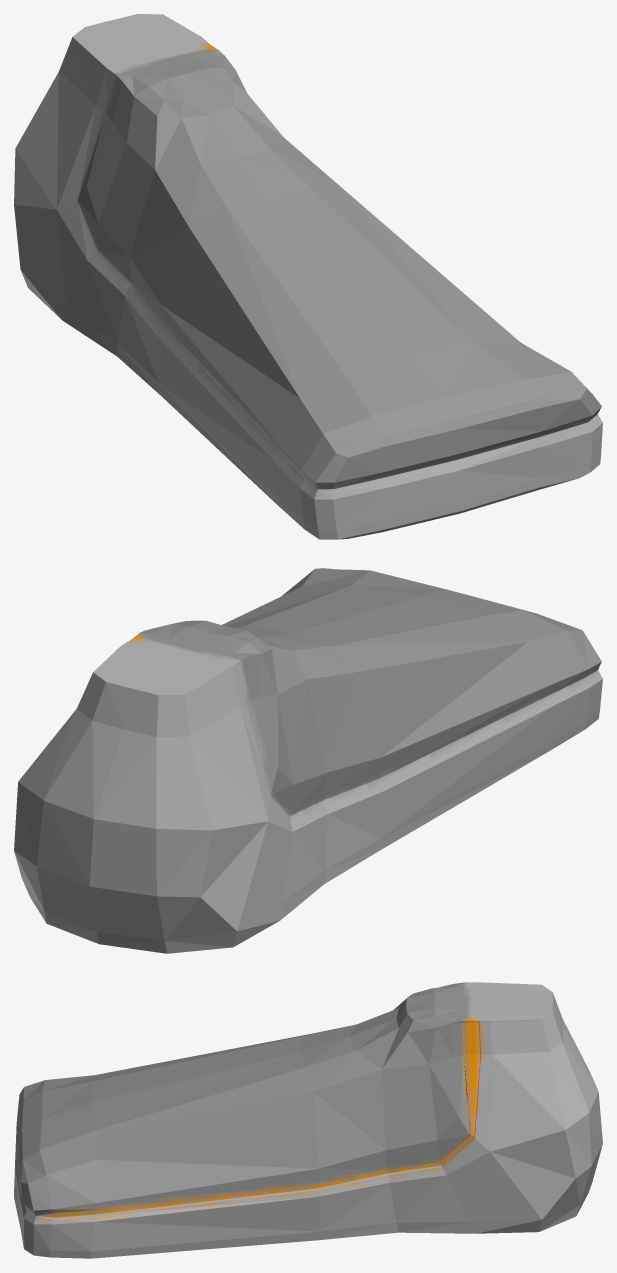
The model's file is LeftFoot.obj.
3 renders of one model, top to bottom at view 1: azimuth 30°, elevation 25°; view 2: azimuth 150°, elevation 25°; view 3: azimuth 270°, elevation 25°, orthographic. The views are drawn at different scales.
Visible parts, largest first — view 1: LeftFoot_Mesh.028; view 2: LeftFoot_Mesh.028; view 3: LeftFoot_Mesh.028.
Part boxes in pixels (<box>): LeftFoot_Mesh.028: <box>14,14,602,539</box>; LeftFoot_Mesh.028: <box>14,568,602,953</box>; LeftFoot_Mesh.028: <box>14,982,602,1258</box>.
Size of the model in its own units: 0.0952 by 0.0752 by 0.2037.
1 material, 1 textured.
